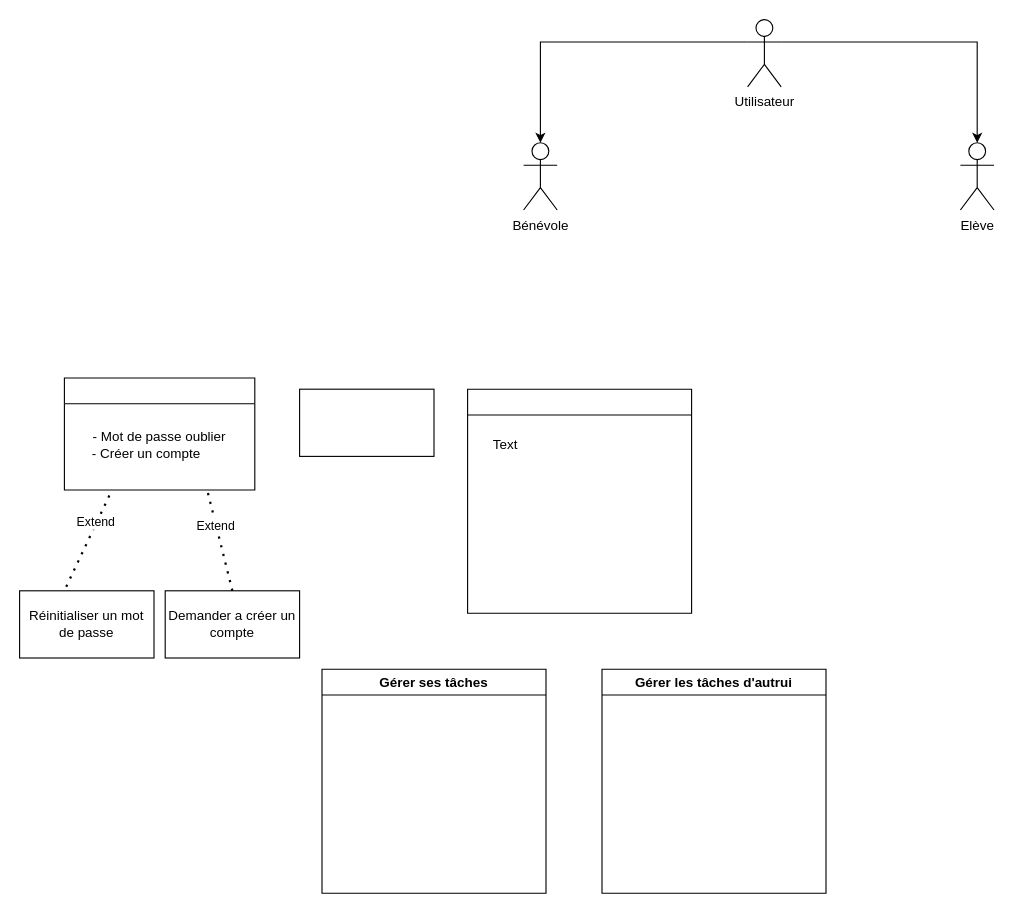
This 1014x913 diagram has some shape labels left out. Each missing label, with the box of its shape:
Disctuter: (298, 388, 434, 456)
Gérer son emploi du temps: (466, 388, 692, 613)
Se connecter au site: (63, 377, 255, 490)
